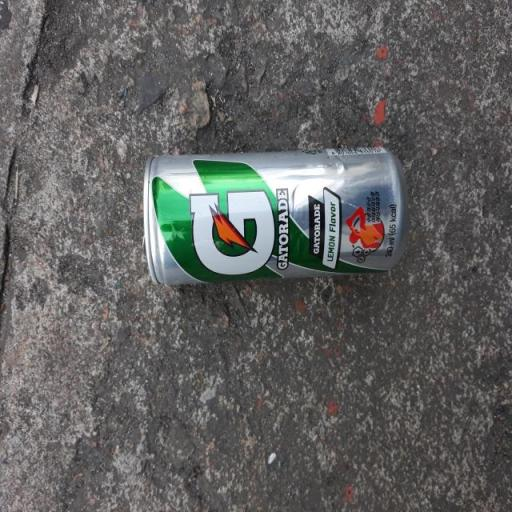metal: (119, 126, 421, 327)
